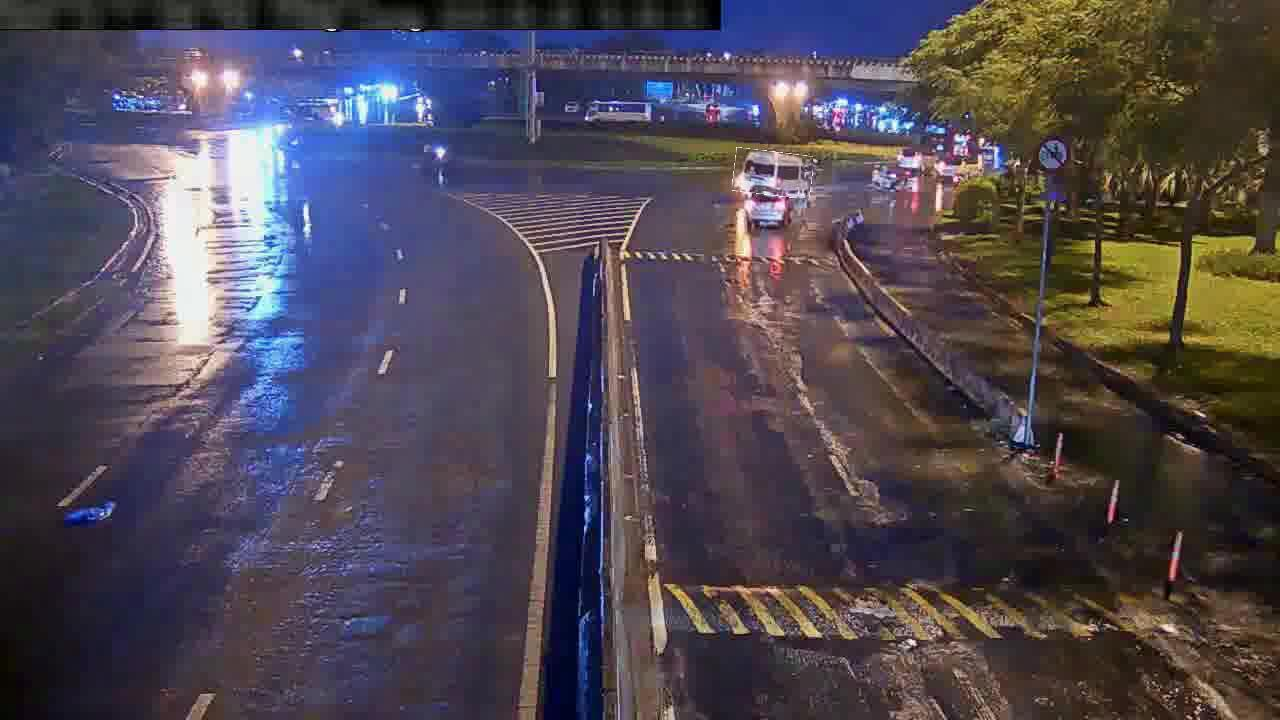14: (733, 150, 813, 197)
container: (744, 183, 796, 228)
